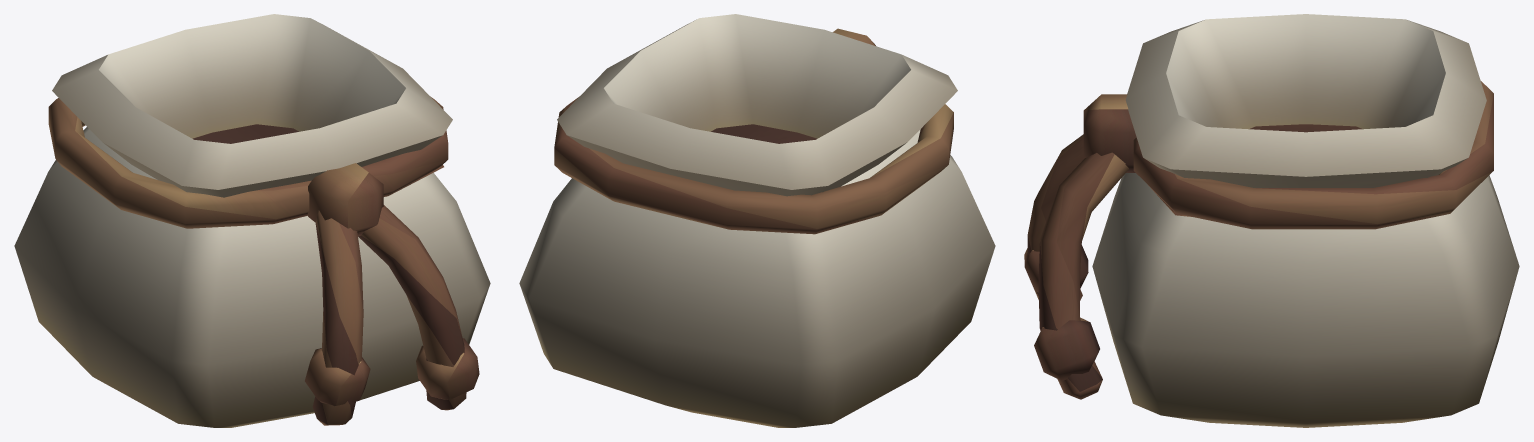
Rendered from sack_empty.fbx.
The picture shows the model from 3 angles, left to right: view 1: azimuth 30°, elevation 25°; view 2: azimuth 150°, elevation 25°; view 3: azimuth 270°, elevation 25°; orthographic projection. The views are drawn at different scales.
Visible parts, largest first — view 1: sack_empty; view 2: sack_empty; view 3: sack_empty.
Part boxes in pixels (x1,y1,x2,y2): sack_empty: [14, 14, 490, 427]; sack_empty: [519, 14, 995, 427]; sack_empty: [1024, 14, 1519, 427].
Size of the model in its own units: 63.69 by 48.89 by 73.83.
